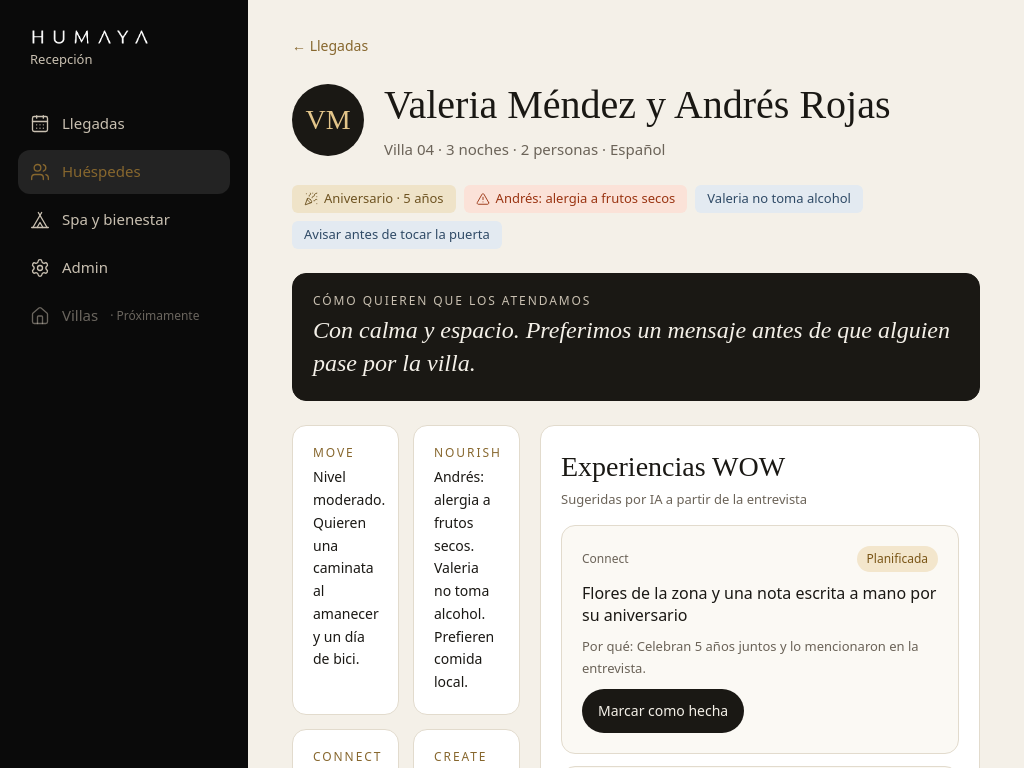
Test case: experiencias WOW › una experiencia hecha ya no se puede mover
This screenshot has width=1024, height=768.
Click the button "Marcar como hecha" at x=663, y=711, box [582,689,744,733]
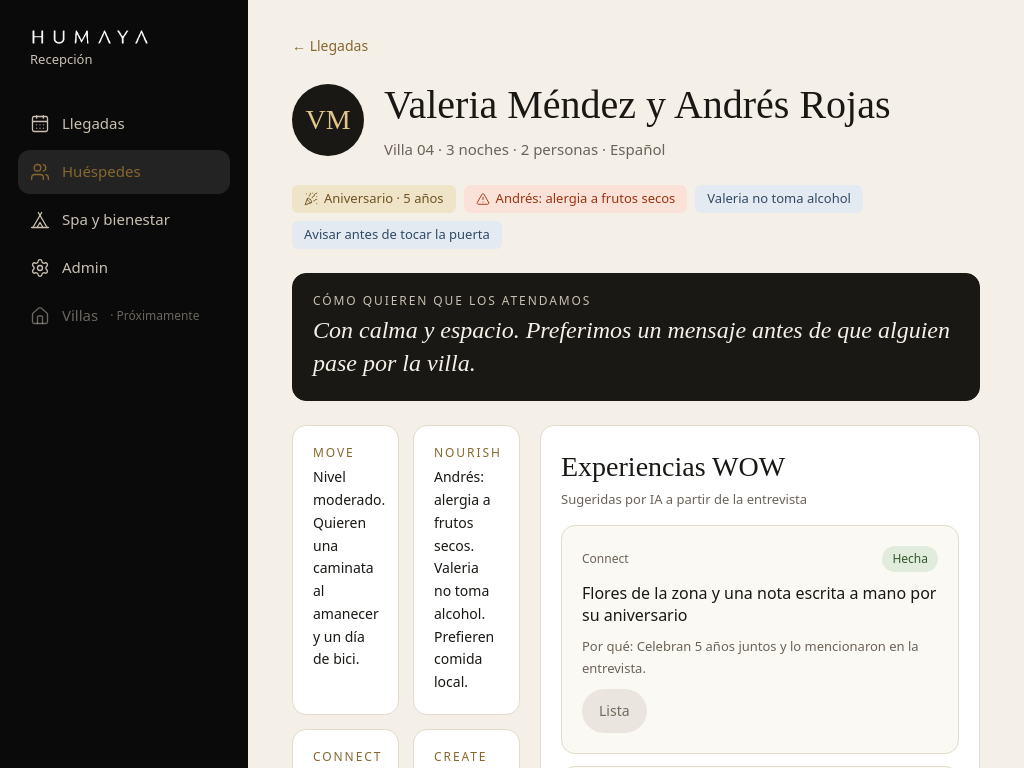
Expected: the text "Hecha" is shown, [882,546,938,572]
Expected: the button "Lista" is disabled, [582,689,647,733]
